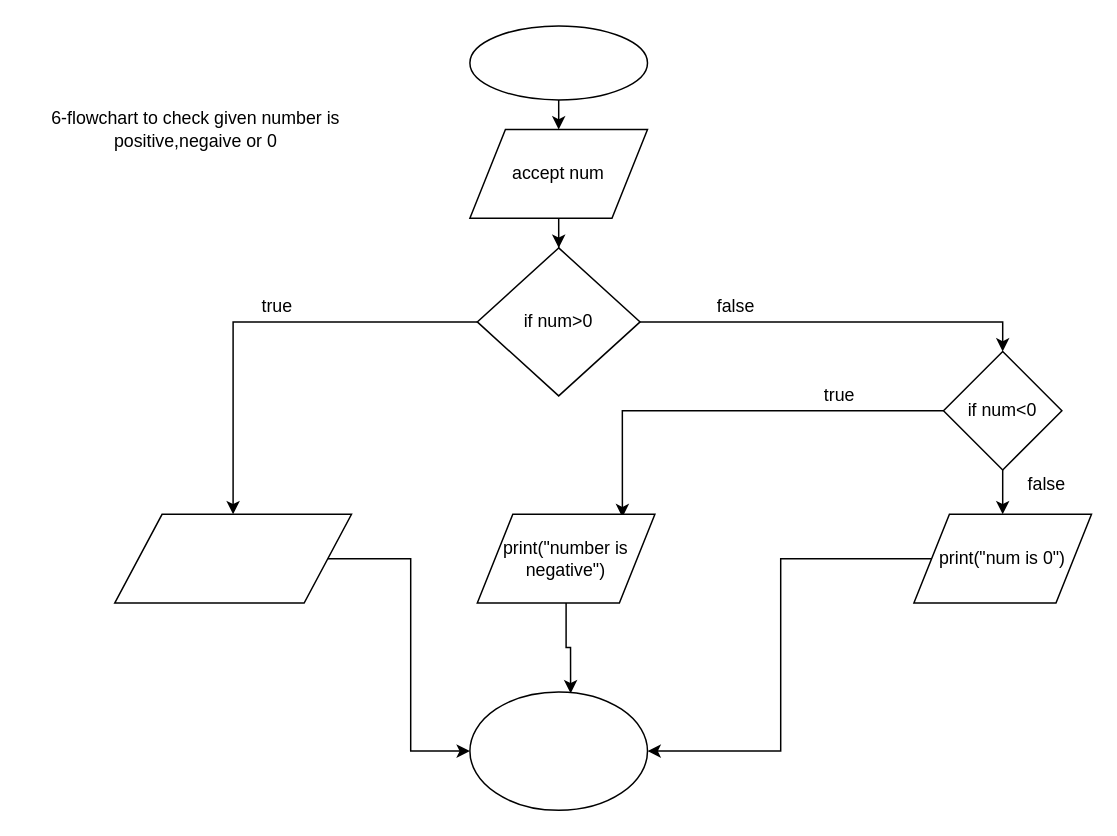
This 1117x836 diagram has some shape labels left out. Each missing label, with the box of its shape:
print("print number is positive: (113, 513, 352, 603)
start: (468, 24, 648, 100)
stop: (468, 690, 648, 810)
